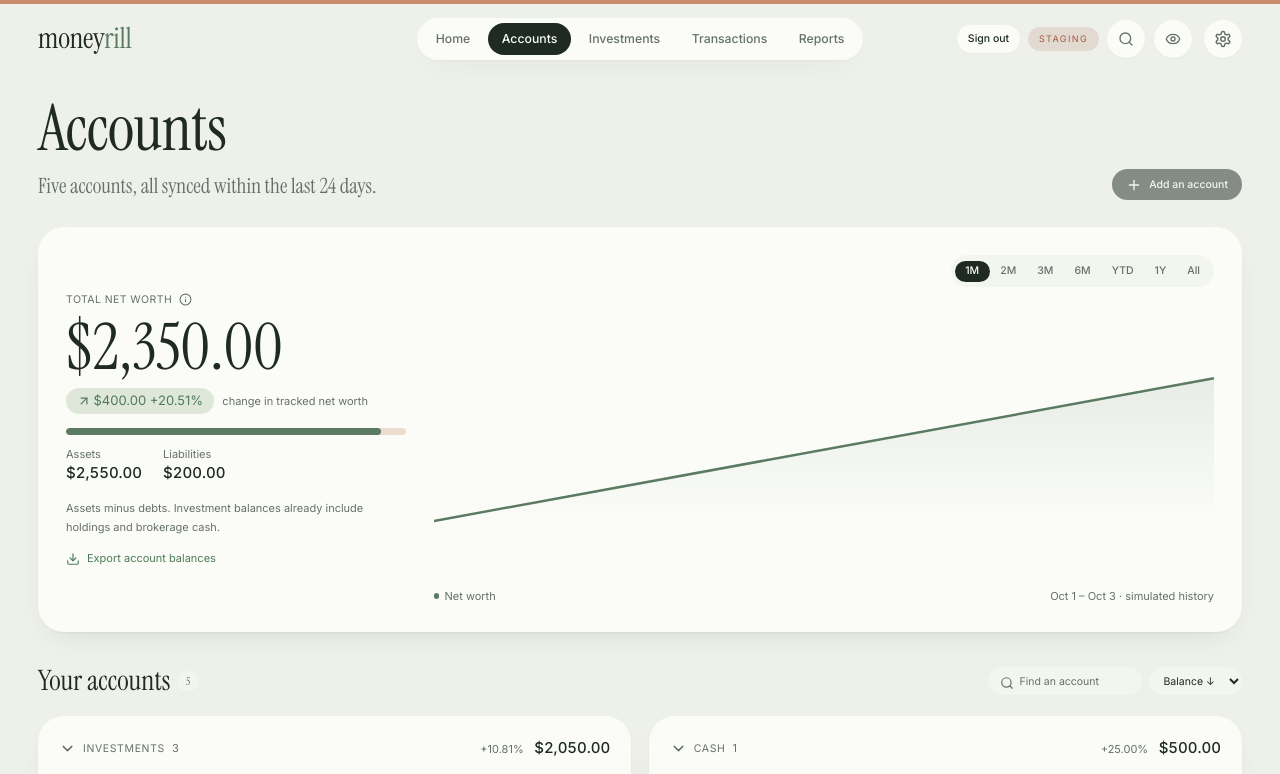
Test: private mode › hides net worth, balances and group totals but keeps the growth percentage
Expected: the text "TOTAL NET WORTH" is shown, [66,293,192,306]
Expected: the text "$2,350.00" is shown, [66,306,283,389]
Step 1. Click the button named "Private mode" → (1173, 39), box [1154,20,1192,58]
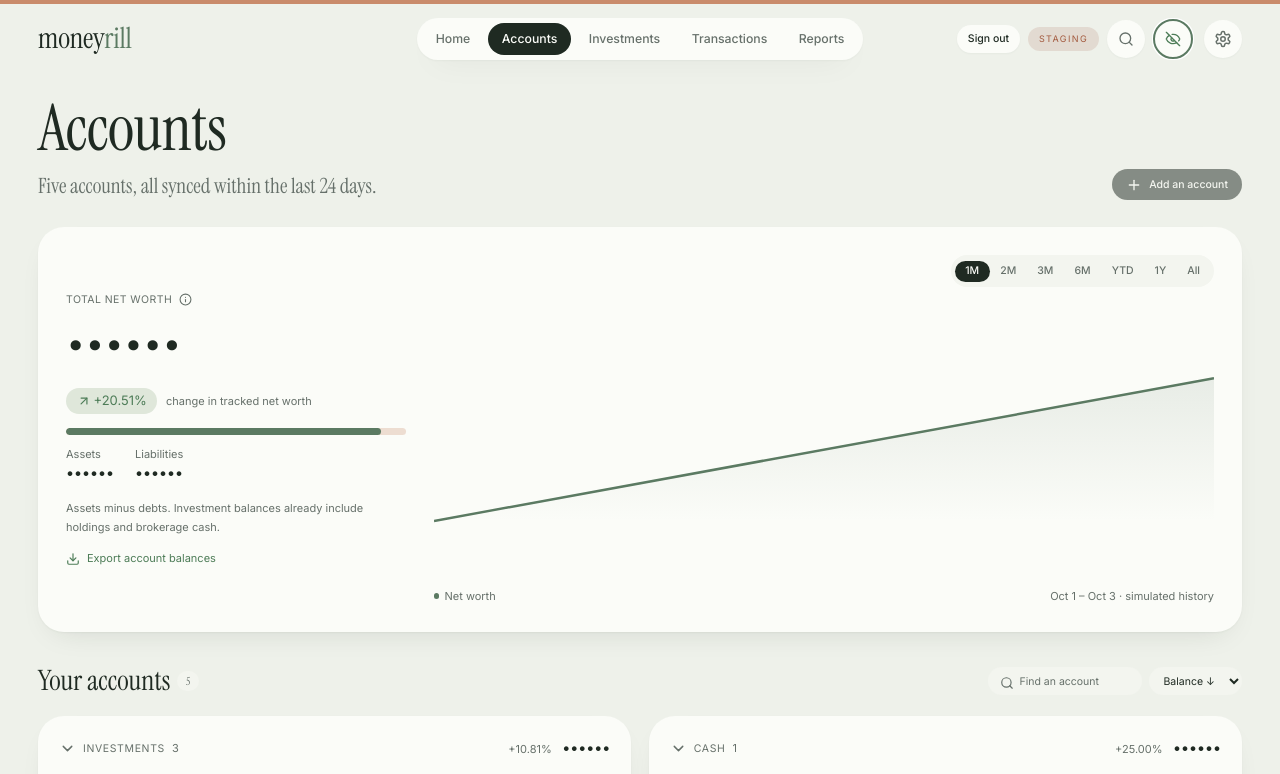
Expected: the element with test id "net-caption" reads "+20.51% change in tracked net worth", [94,392,147,408]
Expected: the button named "Private mode" is pressed
Step 2. Click the button named "Private mode" → (1173, 39), box [1154,20,1192,58]
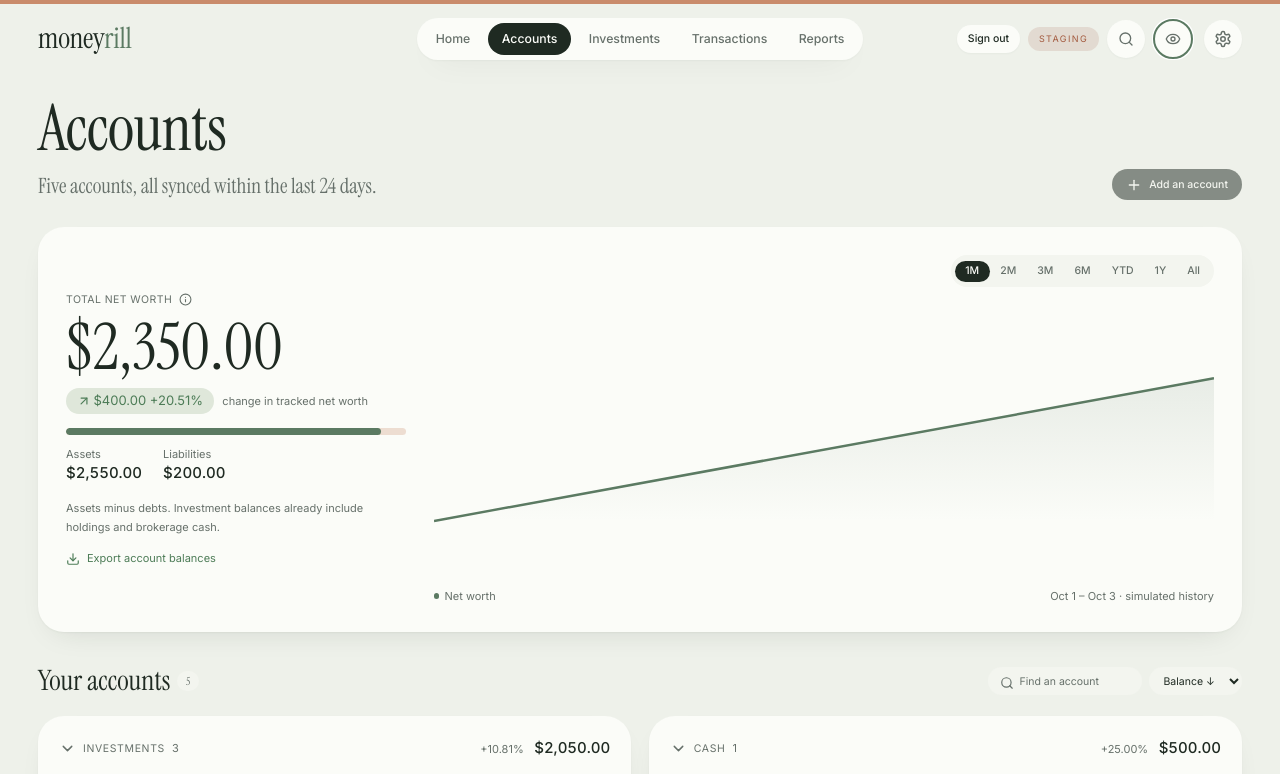
Expected: the text "$2,350.00" is shown, [66,306,283,389]
